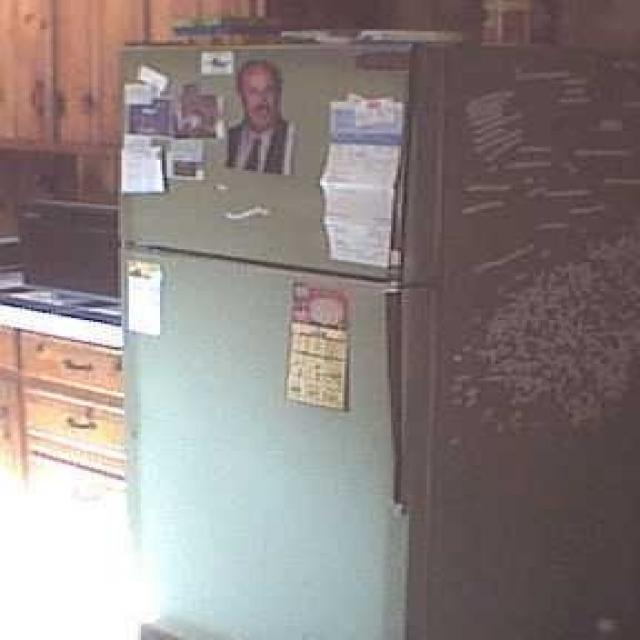refrigerator: (116, 41, 471, 640)
